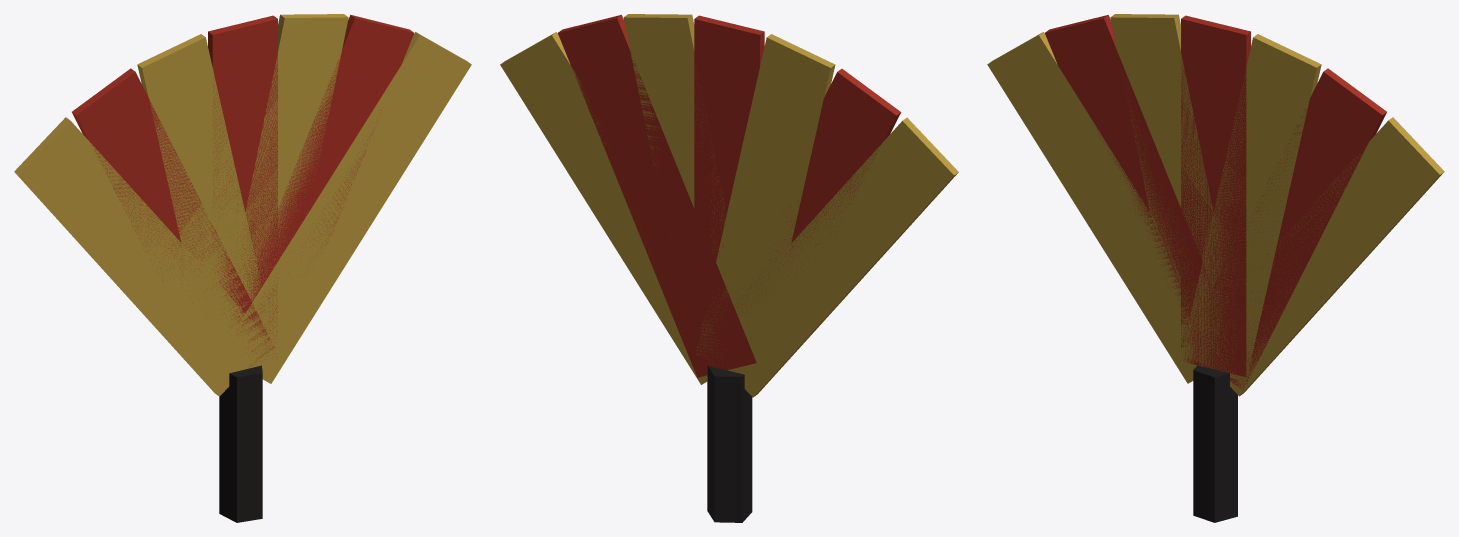
Rendered from gear_fan.glb.
The picture shows the model from 3 angles, left to right: view 1: azimuth 30°, elevation 25°; view 2: azimuth 150°, elevation 25°; view 3: azimuth 330°, elevation 25°; orthographic projection.
Parts seen in each view (by area): view 1: gear_fan; view 2: gear_fan; view 3: gear_fan.
Boxes of the visible parts, box(x1,y1,x2,y2) form: gear_fan: box(14, 14, 471, 522); gear_fan: box(500, 14, 958, 522); gear_fan: box(987, 14, 1444, 522).
Size of the model in its own units: 0.3322 by 0.342 by 0.0282.
